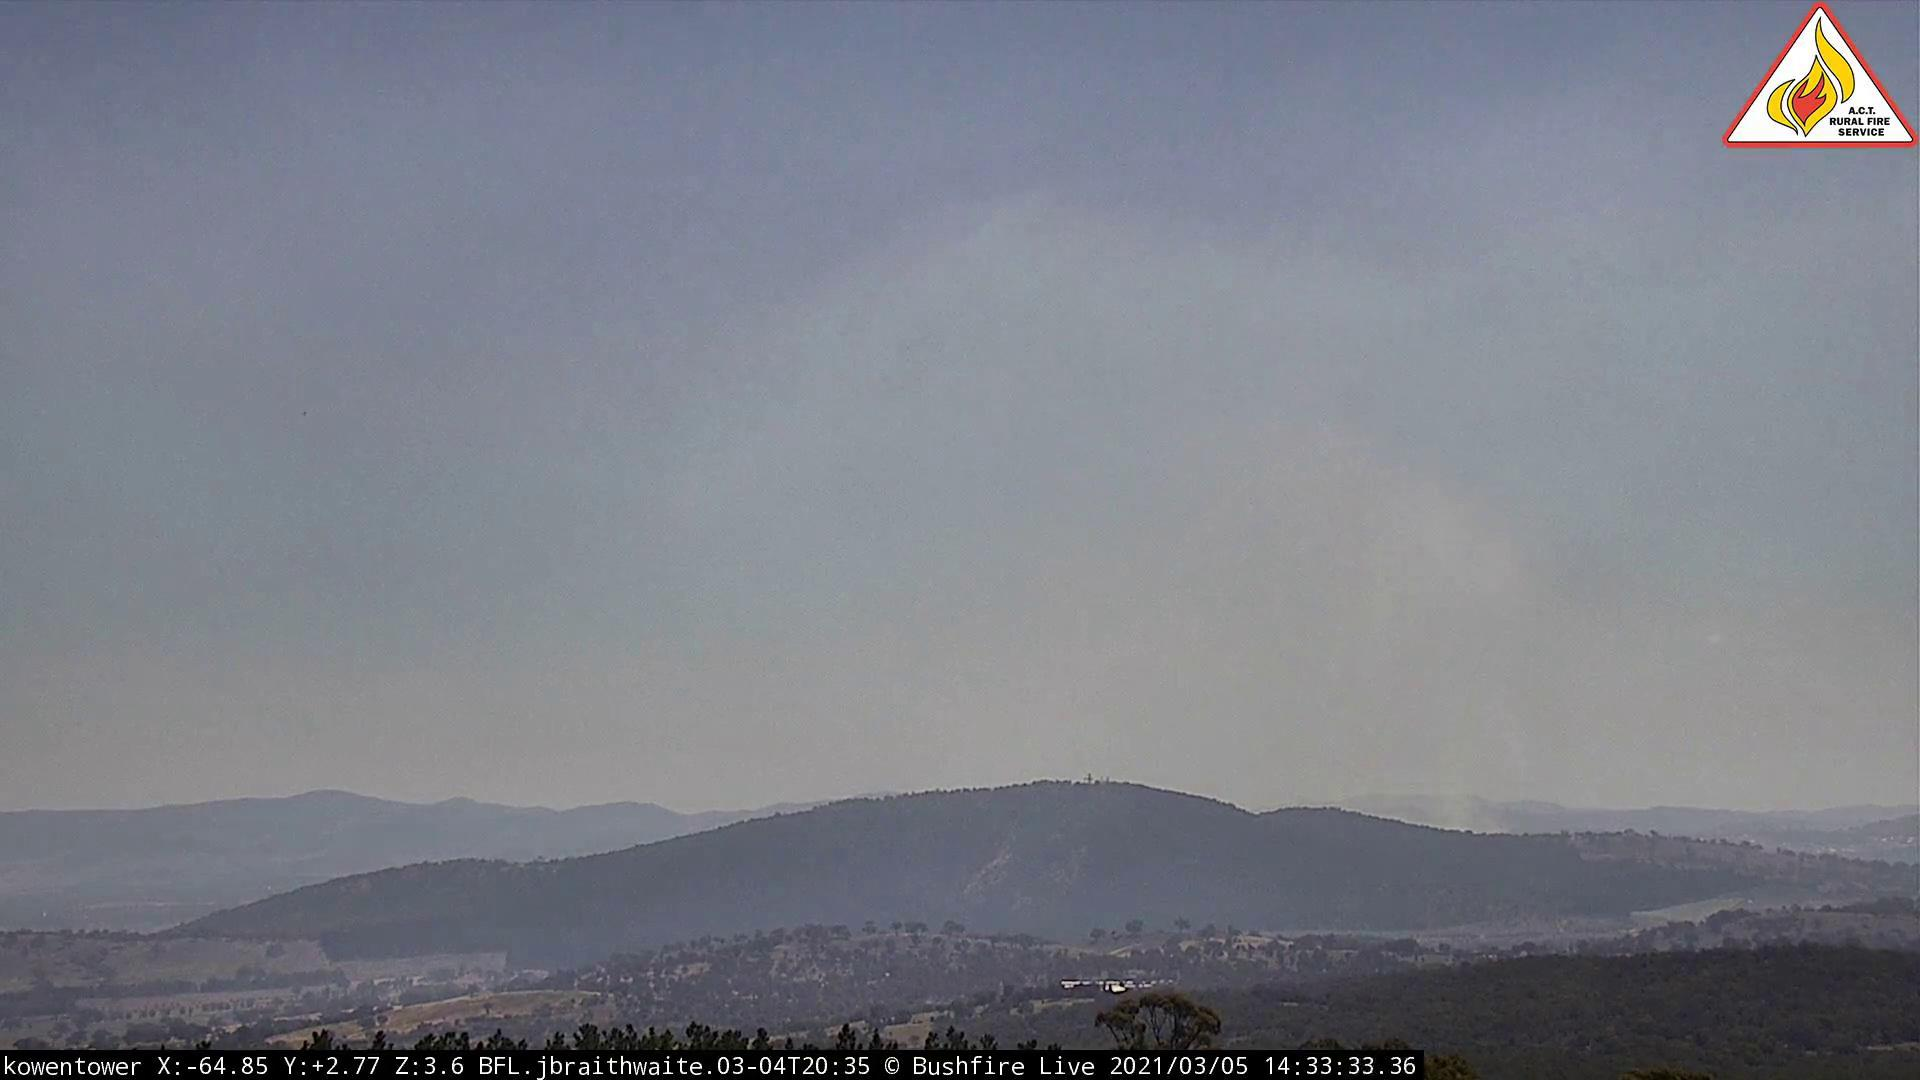Smoke: (1095, 413, 1588, 844)
